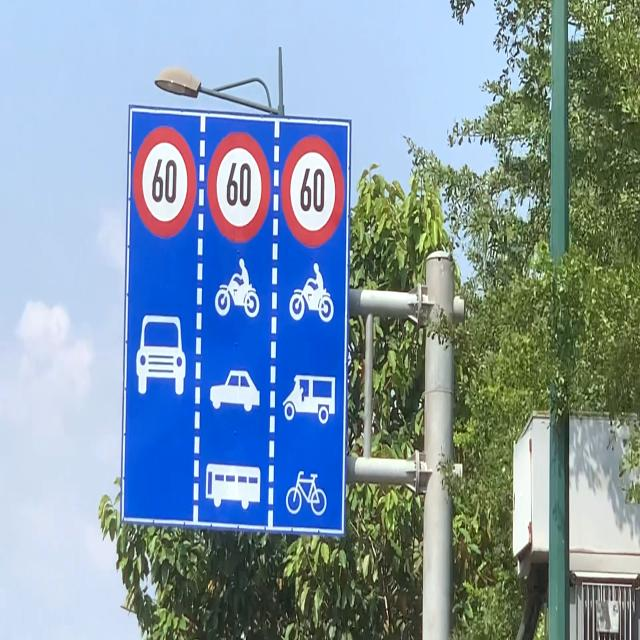P.127: (133, 125, 197, 239), (281, 134, 344, 248), (207, 132, 271, 244)
